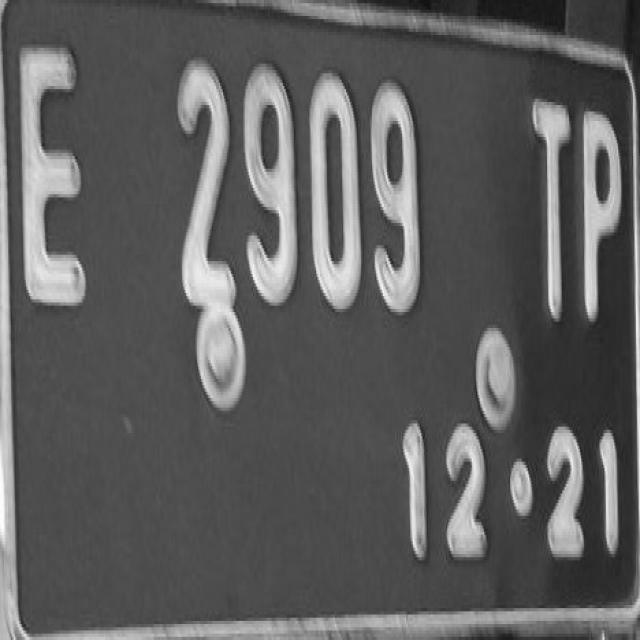0: (298, 53, 367, 315)
2: (170, 41, 238, 314)
9: (366, 81, 436, 313), (240, 55, 298, 313)
E: (23, 38, 95, 309)
P: (576, 107, 622, 316)
T: (526, 96, 576, 314)
